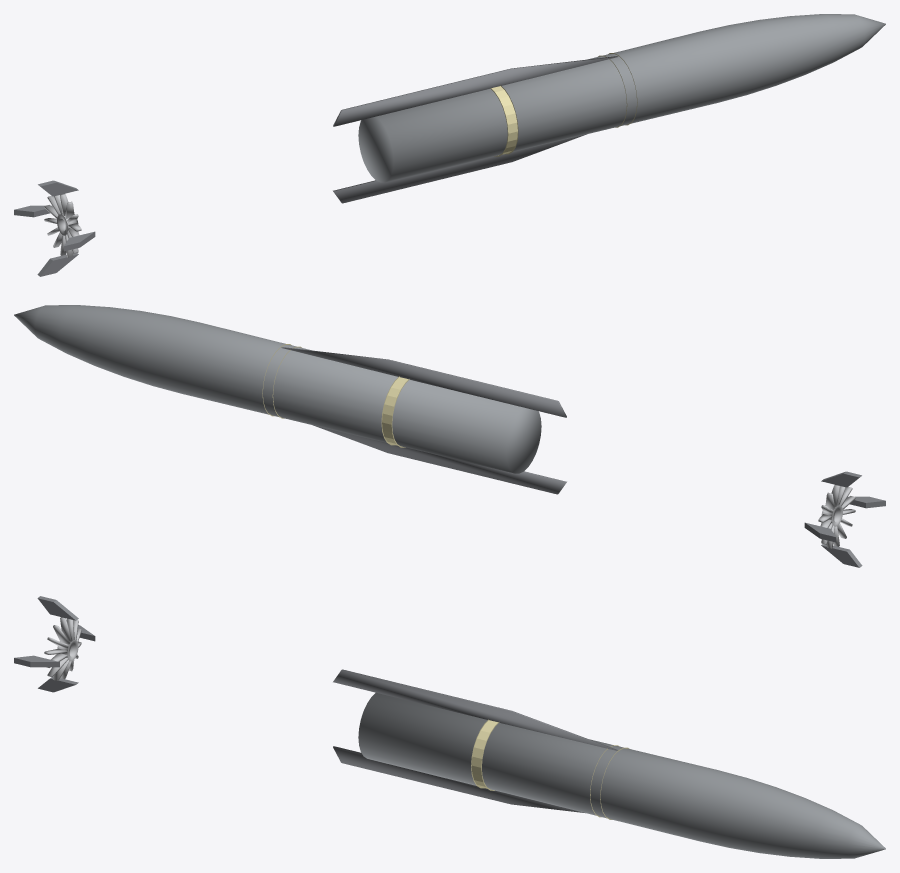
The model's file is CN_TORP_Yu1_LOD1.fbx.
3 renders of one model, top to bottom at view 1: azimuth 30°, elevation 25°; view 2: azimuth 150°, elevation 25°; view 3: azimuth 330°, elevation 25°, orthographic.
Visible parts, largest first — view 1: WPN_CN_TORP_Yu1_LOD1_Body, WPN_CN_TORP_Yu1_LOD1_Detail, WPN_CN_TORP_Yu1_LOD1_Fins, WPN_CN_TORP_Yu1_LOD1_Propulsor, WPN_CN_TORP_Yu1_LOD1_Marking; view 2: WPN_CN_TORP_Yu1_LOD1_Body, WPN_CN_TORP_Yu1_LOD1_Detail, WPN_CN_TORP_Yu1_LOD1_Fins, WPN_CN_TORP_Yu1_LOD1_Propulsor, WPN_CN_TORP_Yu1_LOD1_Marking; view 3: WPN_CN_TORP_Yu1_LOD1_Body, WPN_CN_TORP_Yu1_LOD1_Detail, WPN_CN_TORP_Yu1_LOD1_Propulsor, WPN_CN_TORP_Yu1_LOD1_Fins, WPN_CN_TORP_Yu1_LOD1_Marking.
Boxes of the visible parts, x1,y1,x2,y2 form: WPN_CN_TORP_Yu1_LOD1_Body: (358, 14, 885, 182); WPN_CN_TORP_Yu1_LOD1_Detail: (333, 56, 618, 203); WPN_CN_TORP_Yu1_LOD1_Fins: (14, 180, 95, 276); WPN_CN_TORP_Yu1_LOD1_Propulsor: (44, 194, 81, 257); WPN_CN_TORP_Yu1_LOD1_Marking: (490, 53, 637, 156); WPN_CN_TORP_Yu1_LOD1_Body: (14, 305, 541, 473); WPN_CN_TORP_Yu1_LOD1_Detail: (281, 347, 566, 494); WPN_CN_TORP_Yu1_LOD1_Fins: (804, 471, 885, 567); WPN_CN_TORP_Yu1_LOD1_Propulsor: (818, 485, 855, 548); WPN_CN_TORP_Yu1_LOD1_Marking: (262, 344, 409, 447); WPN_CN_TORP_Yu1_LOD1_Body: (358, 692, 885, 858); WPN_CN_TORP_Yu1_LOD1_Detail: (333, 669, 617, 813); WPN_CN_TORP_Yu1_LOD1_Propulsor: (44, 617, 81, 680); WPN_CN_TORP_Yu1_LOD1_Fins: (14, 596, 95, 692); WPN_CN_TORP_Yu1_LOD1_Marking: (471, 719, 629, 819).
Size of the model in its own units: 7.07 by 0.7215 by 0.7409.
